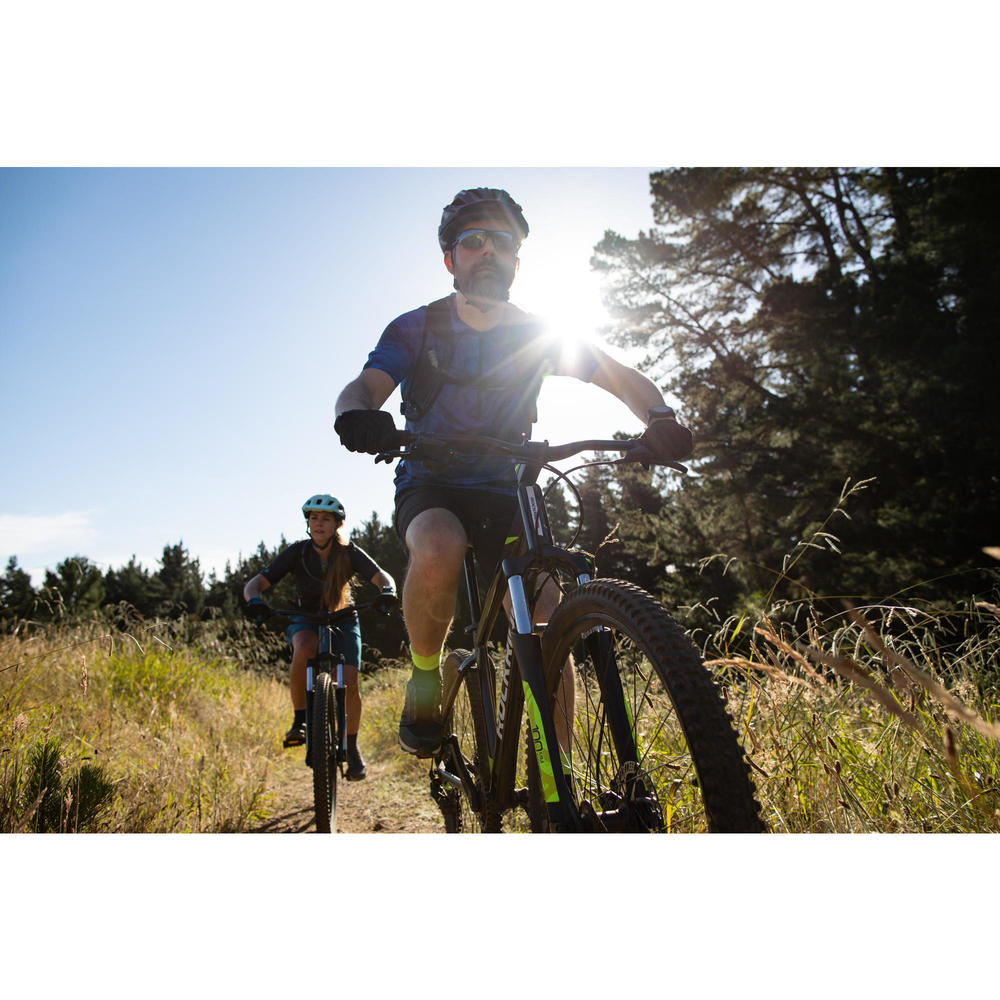MountainBike: (387, 431, 774, 846), (240, 601, 394, 834)
